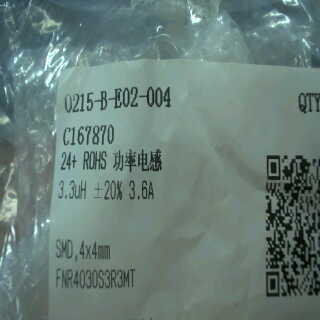3.3uH: (56, 178, 91, 203)
